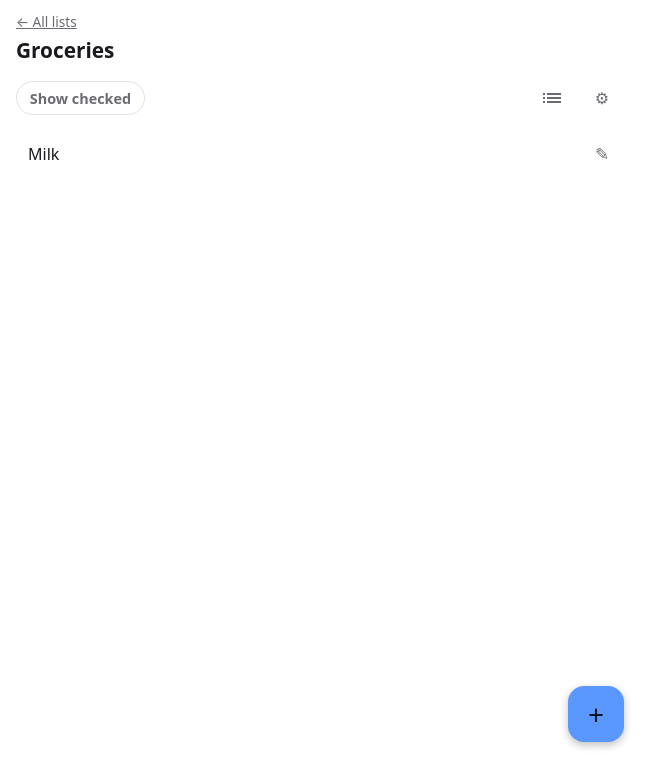
Test: ListPage checked items › show-checked is a toggle button that reveals and hides checked items
The width and height of the screenshot is (645, 762).
expect the text "Milk" is shown: met, box [28,143,59,165]
expect the text "Bread" is not shown: met
Click the button "Show checked". click: x=80, y=98
box: [16,81,145,115]
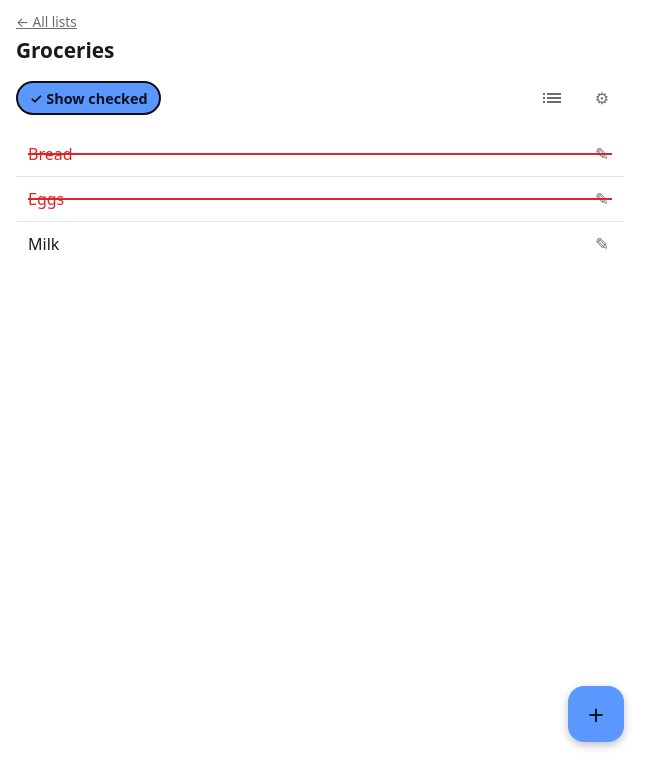
expect the text "Bread" is shown: met, box [28,143,72,165]
expect the text "Eggs" is shown: met, box [28,188,64,210]
Click the button "✓ Show checked". click: x=89, y=98
box: [16,81,161,115]
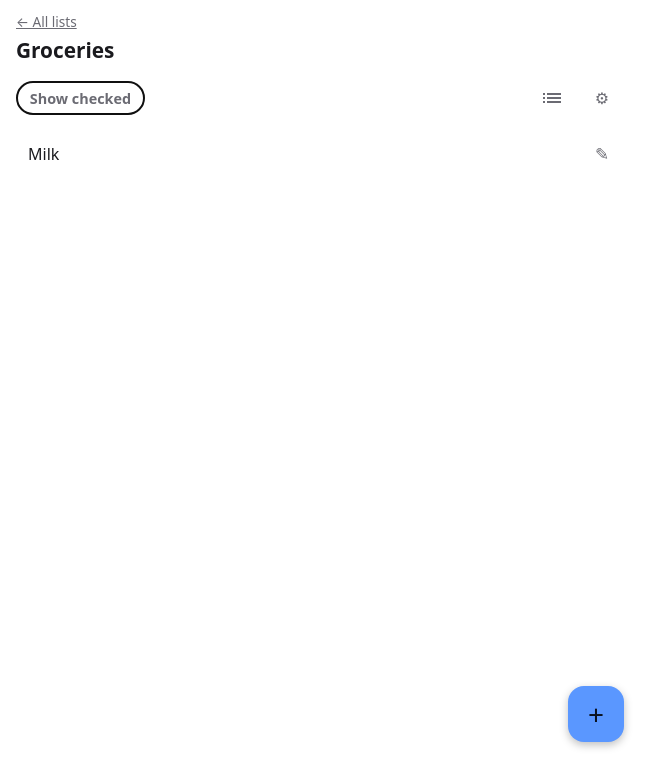
expect the checkbox "Bread" is gone: met
